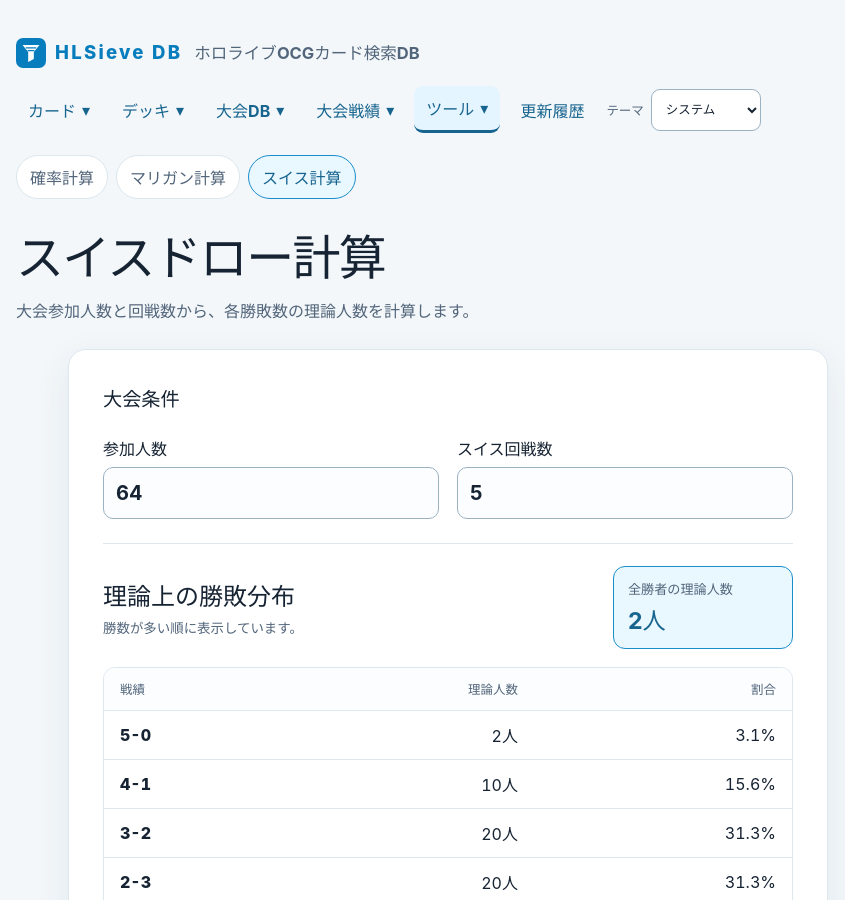
Test case: SwissPage › recalculates immediately and formats fractional theoretical players
Replace the text in the number field labelled "参加人数" with "150": {"x": 271, "y": 493} [103,467,439,519]
(page scrolled)
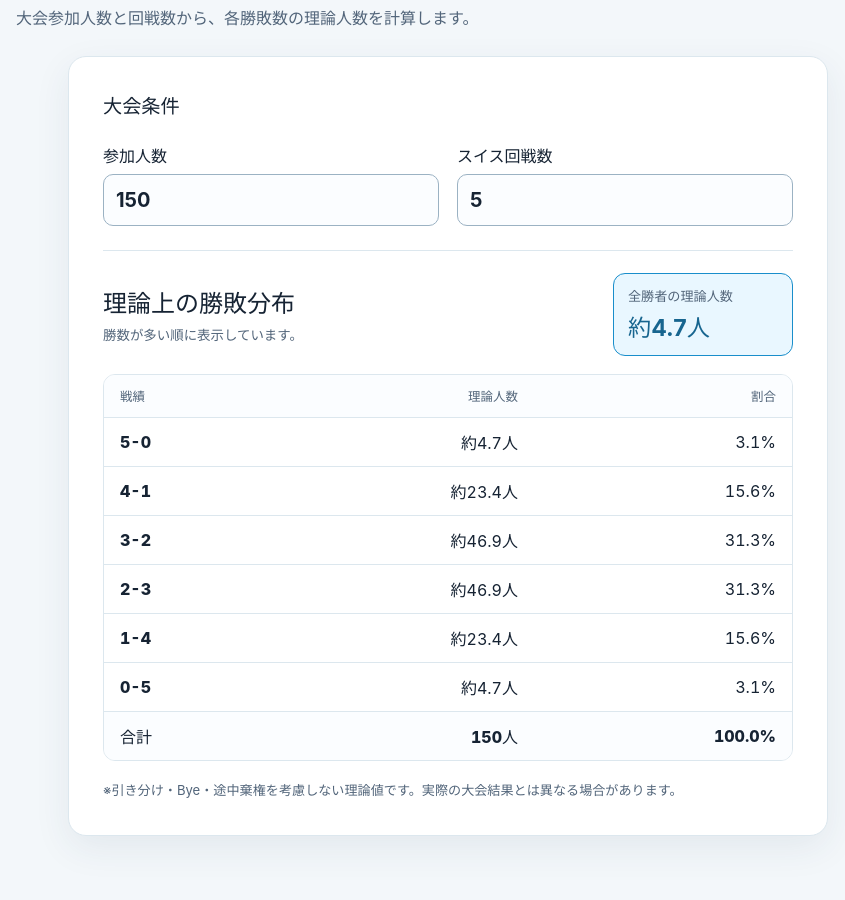
Expected: the text "約4.7人" is shown 3 times, [628,314,710,342]; [276,417,534,466]; [276,662,534,711]
Result: the text "150人" is shown at [276,711,534,760]
